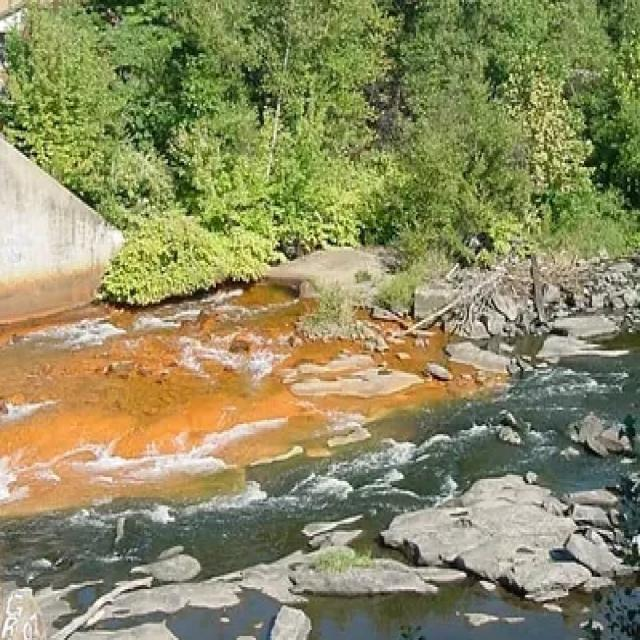yellow_boy: (2, 285, 486, 518)
